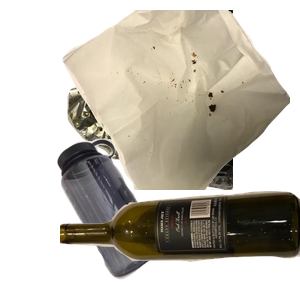glass: (60, 189, 300, 300)
metal: (60, 10, 300, 190)
plastic: (54, 136, 209, 300)
trash: (60, 10, 300, 190)
